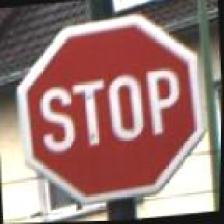Stop: (8, 10, 210, 212)
